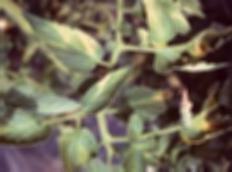Tomato mold leaf: (21, 10, 106, 74), (81, 59, 138, 116), (116, 85, 179, 125), (0, 108, 55, 146), (58, 124, 98, 172), (139, 0, 176, 43)
